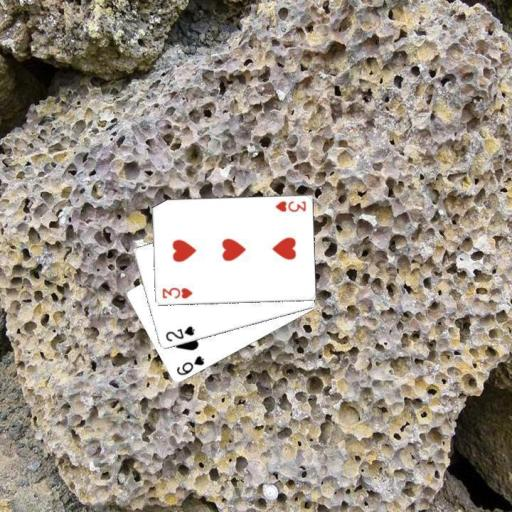card-corner: (173, 353, 205, 377), (162, 323, 196, 343), (272, 198, 307, 214), (160, 285, 194, 300)
